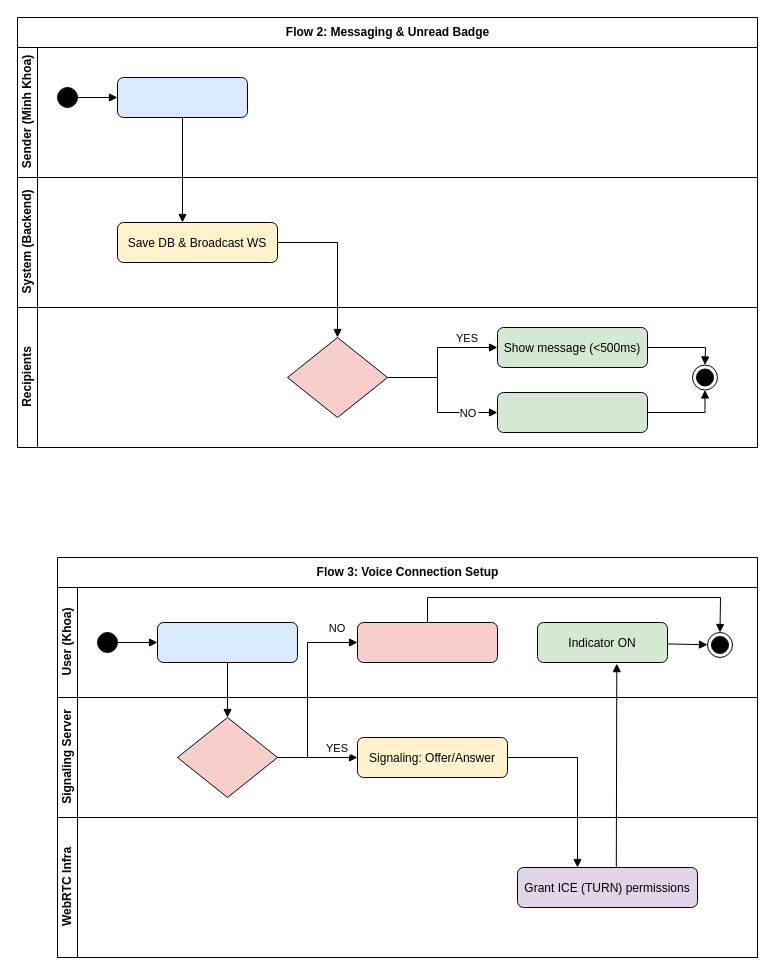
The diagram is 775 pixels wide and 975 high, and some of its shapes have lost their labels. The shapes that lost their labels are listed below. From the top down, each one's centre as x and y in pixels, then its label:
At point 182,97: "LB-301: Send Message".
At point 337,377: "Correct Channel?".
At point 572,412: "LB-501: Update Badge".
At point 227,642: "Join Voice Channel".
At point 427,642: "Toast: Microphone Error".
At point 227,757: "Micro Rights?".
